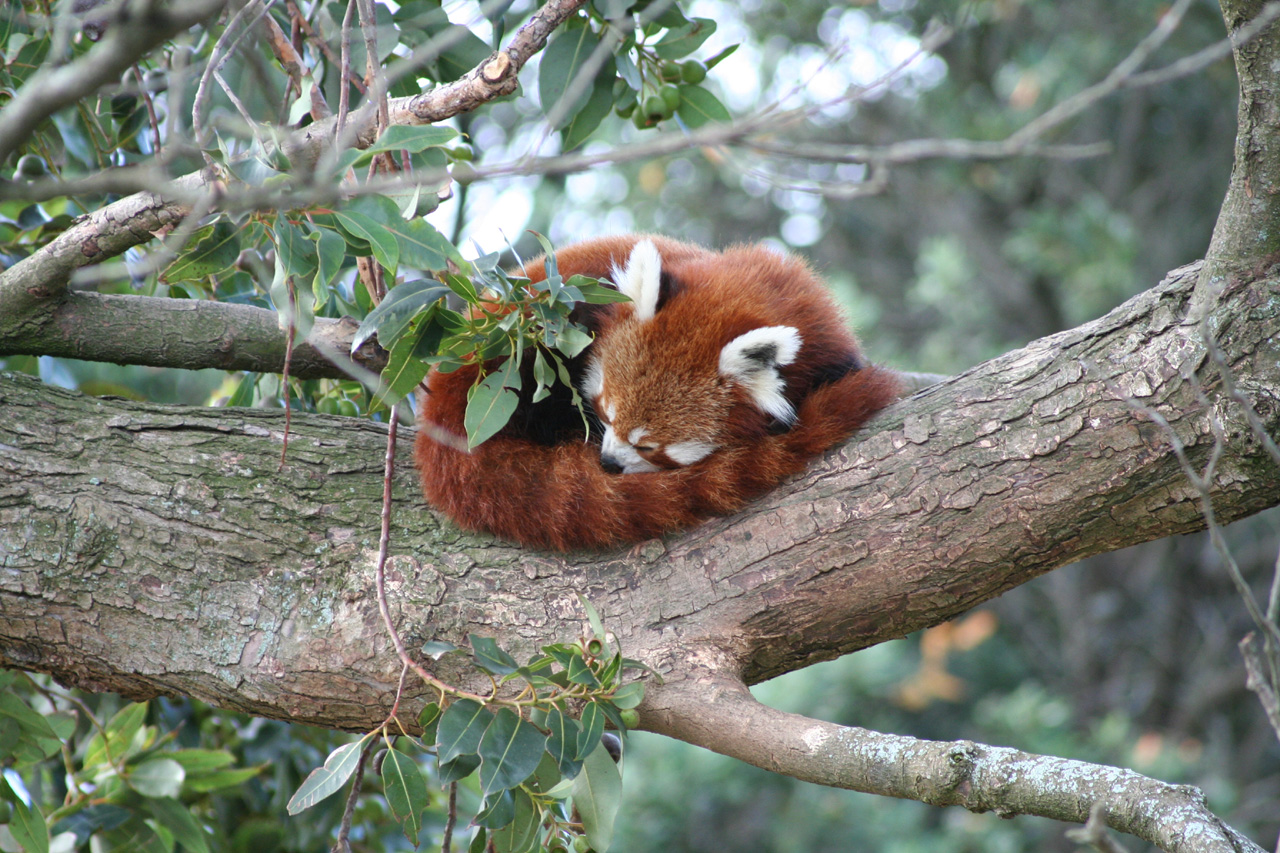red_panda: (422, 242, 885, 565)
